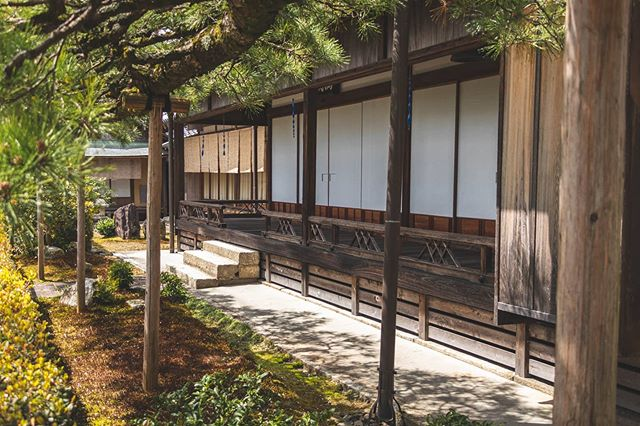building: (164, 20, 640, 373)
vegetation: (1, 35, 170, 426)
